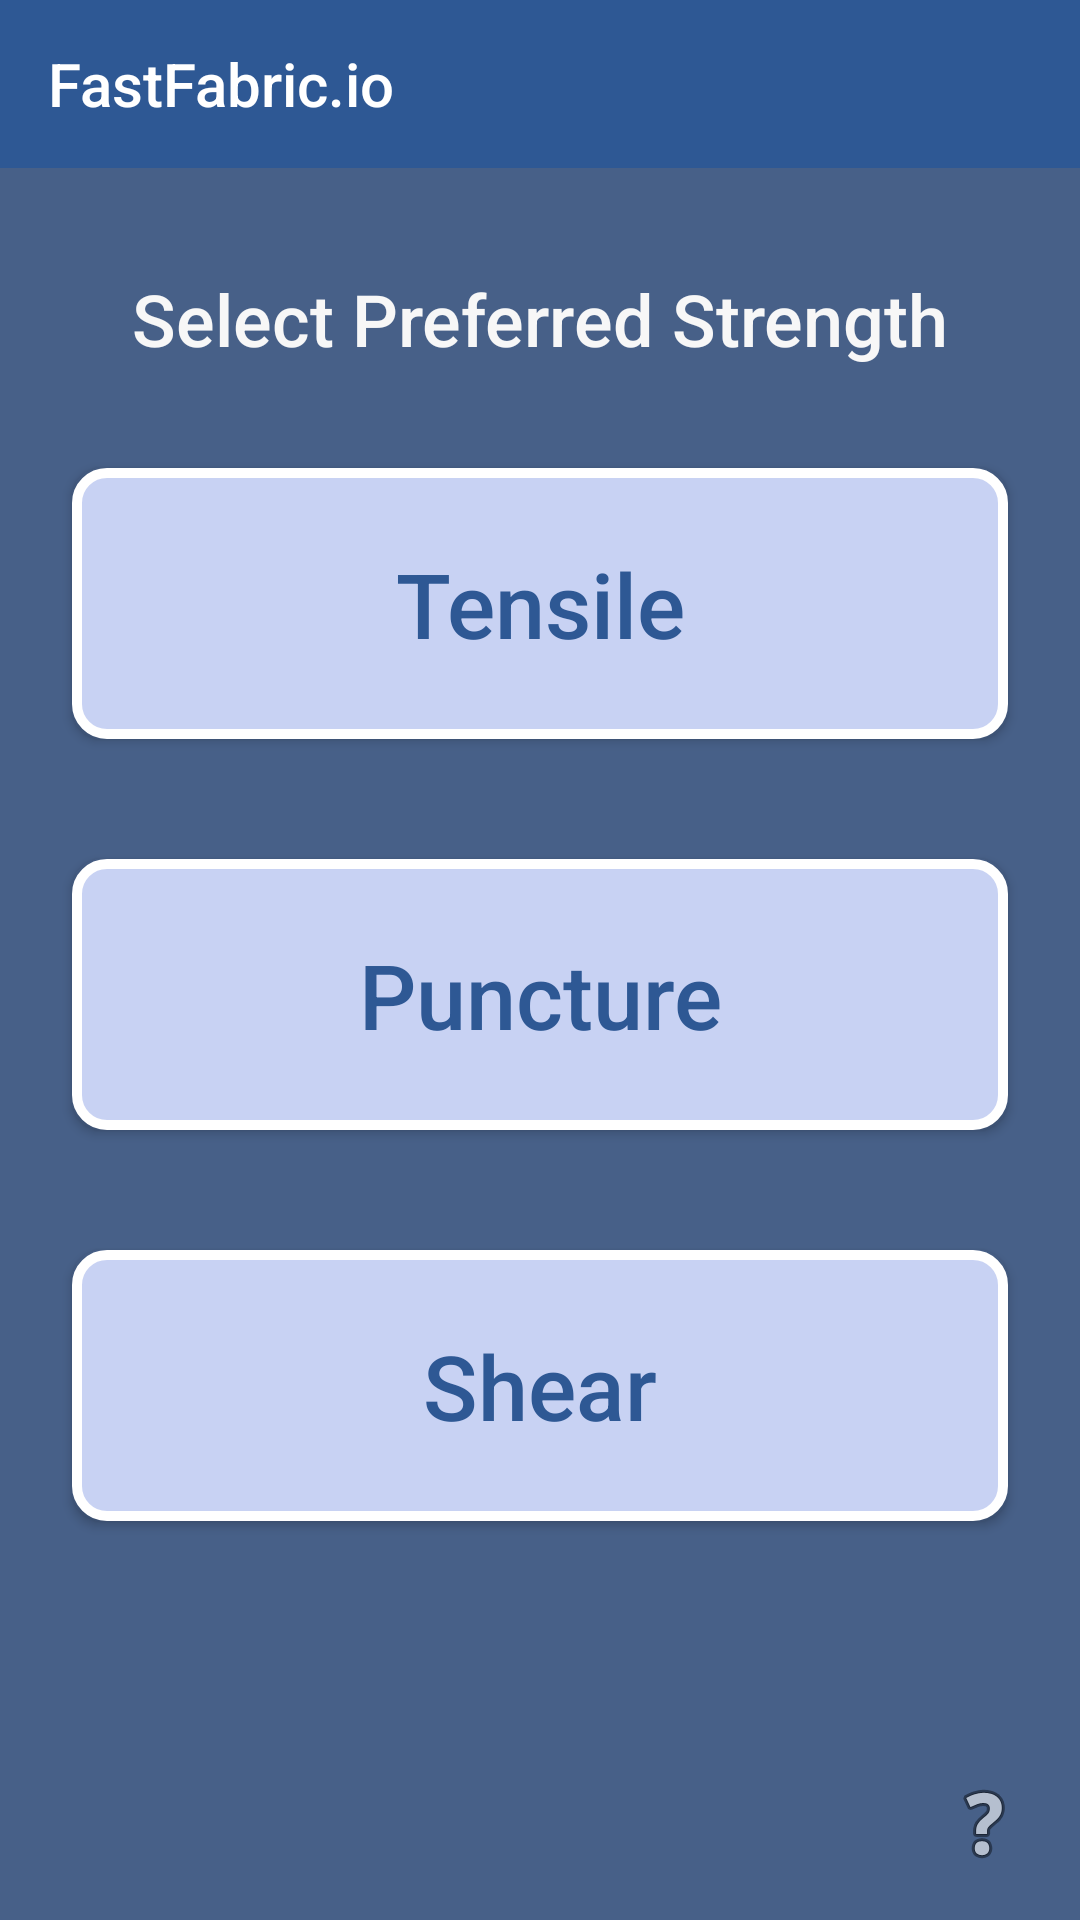

Where to tap for icons on this 1080 × 1920 app screen, as [x,y]:
help: [984,1824]
